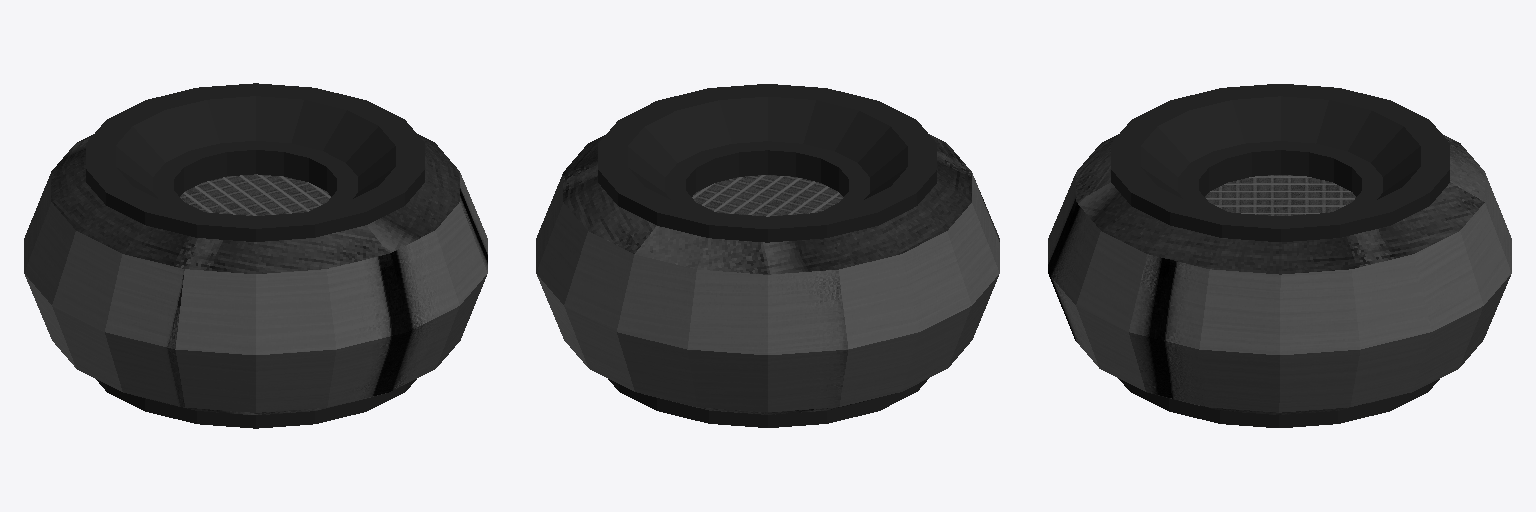
3 views of the same model, side by side, from view 1: azimuth 30°, elevation 25°; view 2: azimuth 150°, elevation 25°; view 3: azimuth 270°, elevation 25° (orthographic).
Visible parts, largest first — view 1: Scifi_structure_Connector_closer; view 2: Scifi_structure_Connector_closer; view 3: Scifi_structure_Connector_closer.
Part boxes in pixels (left/top/right/bottom): Scifi_structure_Connector_closer: left=24, top=83, right=487, bottom=428; Scifi_structure_Connector_closer: left=536, top=84, right=999, bottom=427; Scifi_structure_Connector_closer: left=1048, top=84, right=1511, bottom=427.
Bounding box in the file's own units: 2.27 × 1.06 × 2.23.
3 materials, 2 textured.